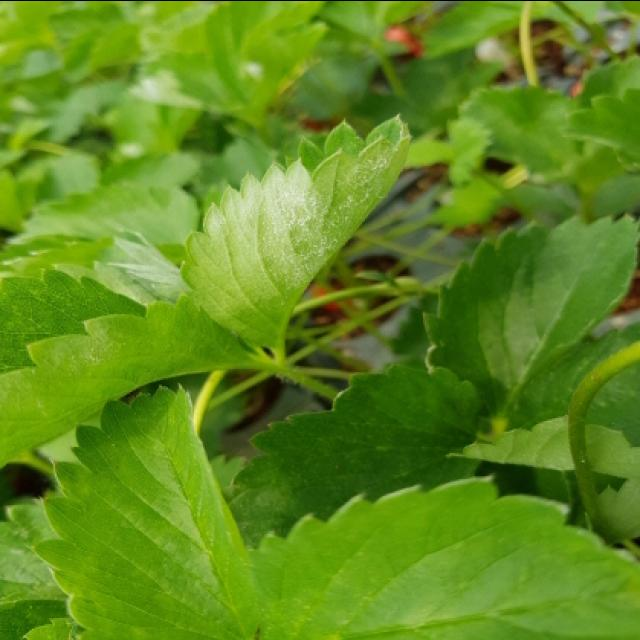Powdery Mildew Leaf: (180, 112, 411, 359), (128, 2, 330, 127)
